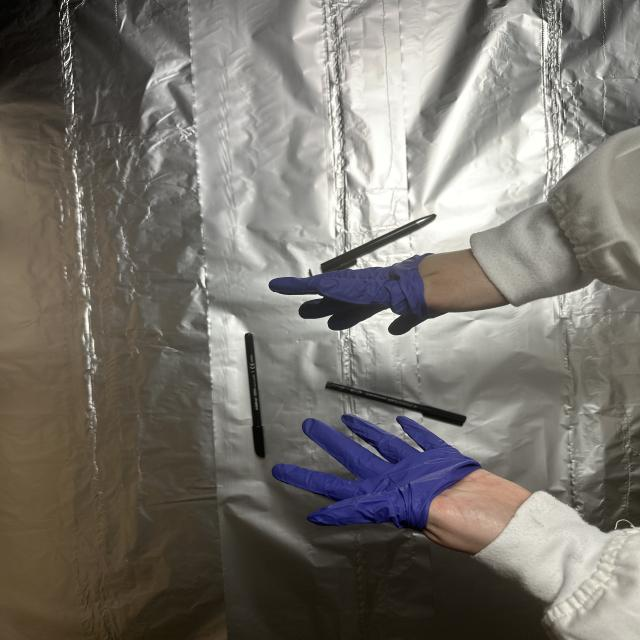glove_partial: (266, 412, 532, 556), (269, 247, 517, 336)
